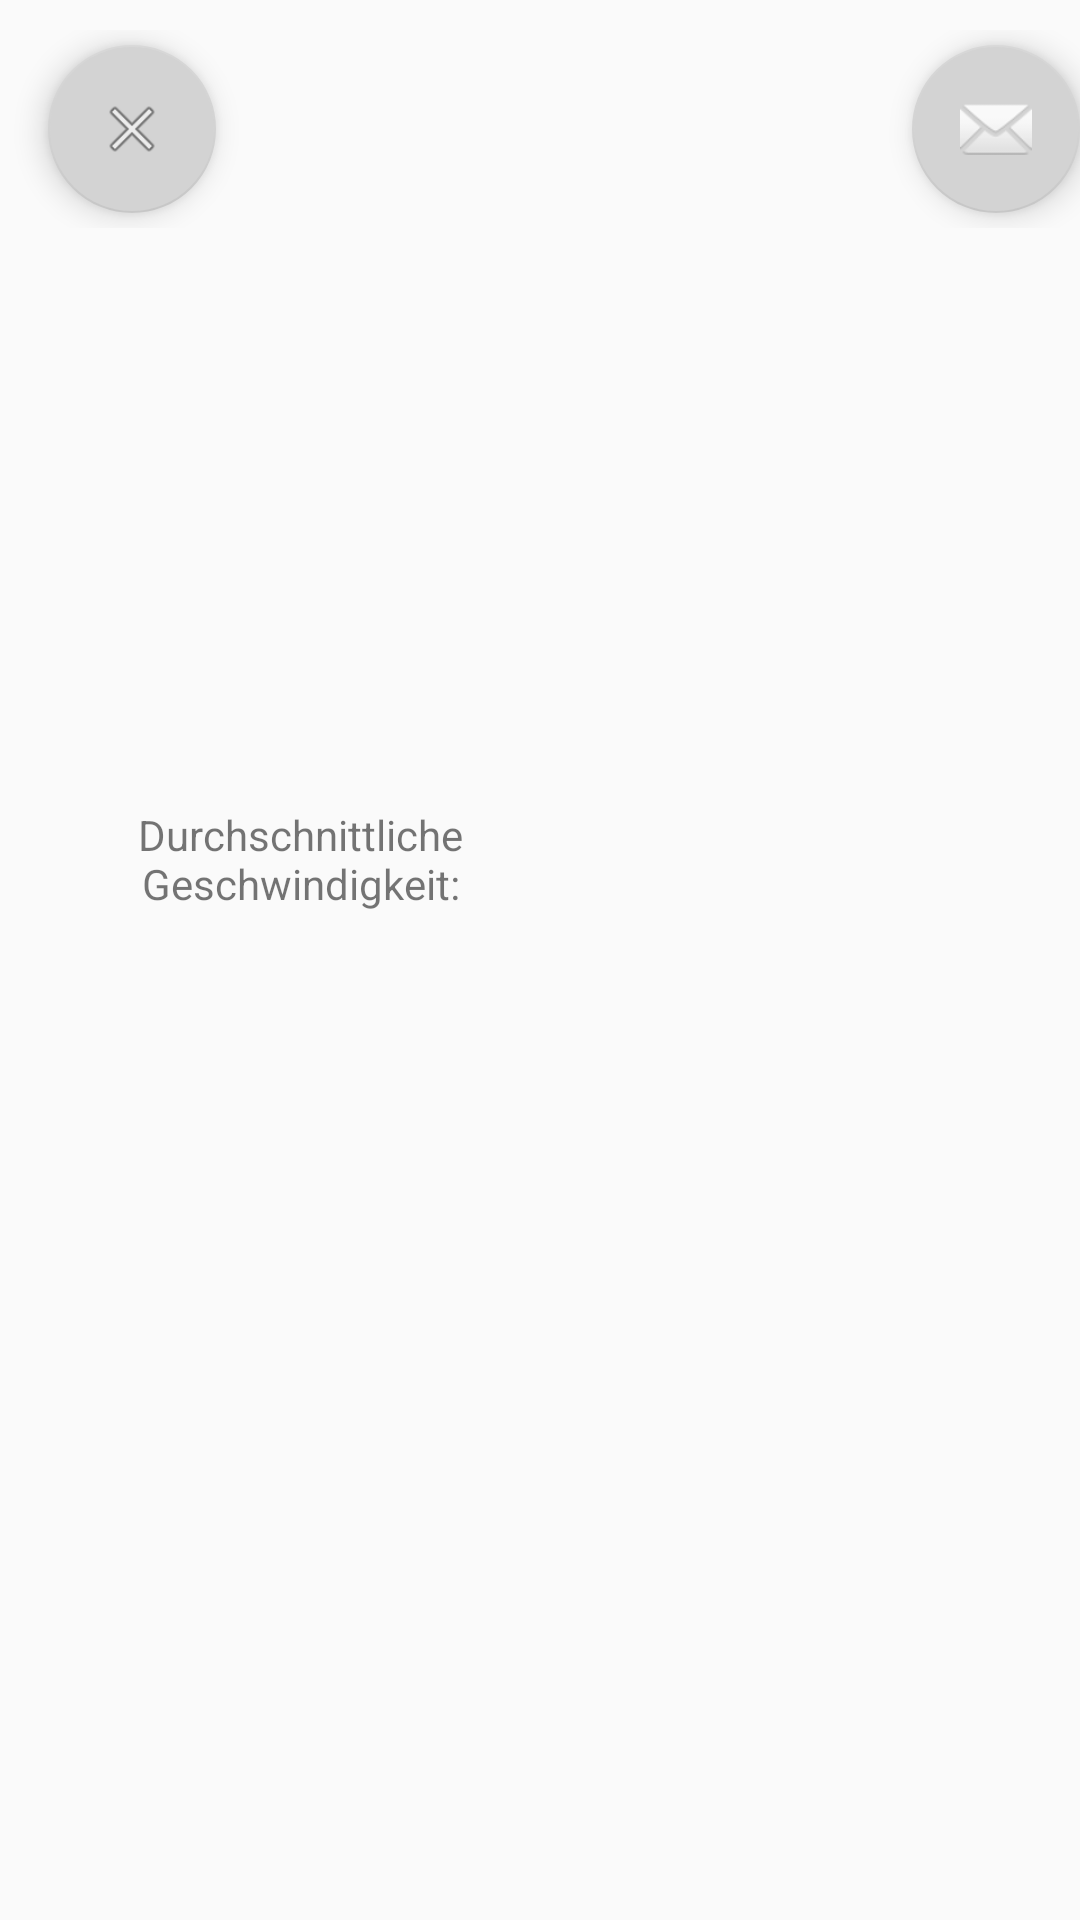

Icons on this 1080px x 1920px Android screen, each with the point to tap as point (x, y):
close clear cancel: point (132, 129)
email: point (996, 129)
